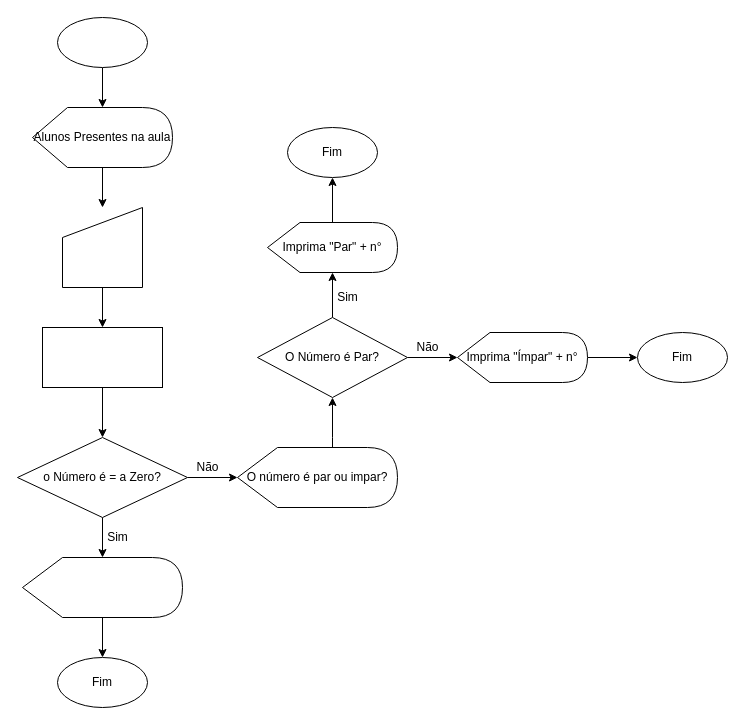
This 745x725 diagram has some shape labels left out. Here are the shapes that lost their labels. From the top down, the box of each, then its label:
(56, 16, 148, 68): Início
(62, 206, 142, 288): Inserção Usuário
(42, 326, 162, 388): Processamento números de alunos
(22, 556, 182, 618): Imprima "Zero"
